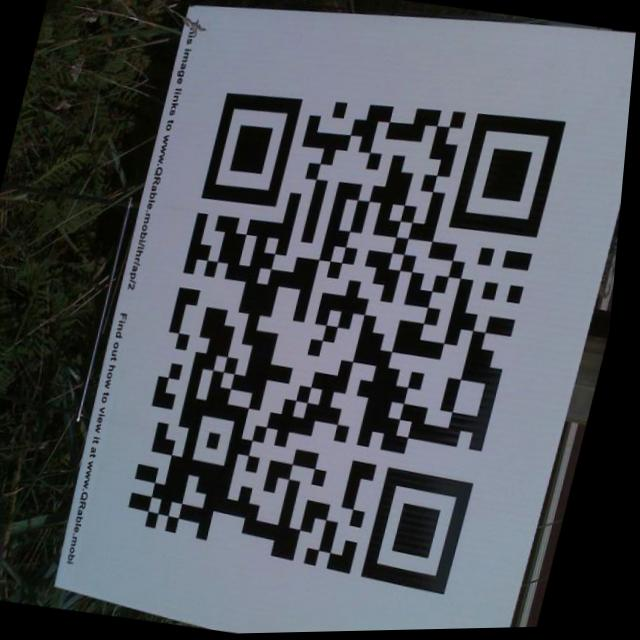qrcode: (123, 72, 572, 603)
